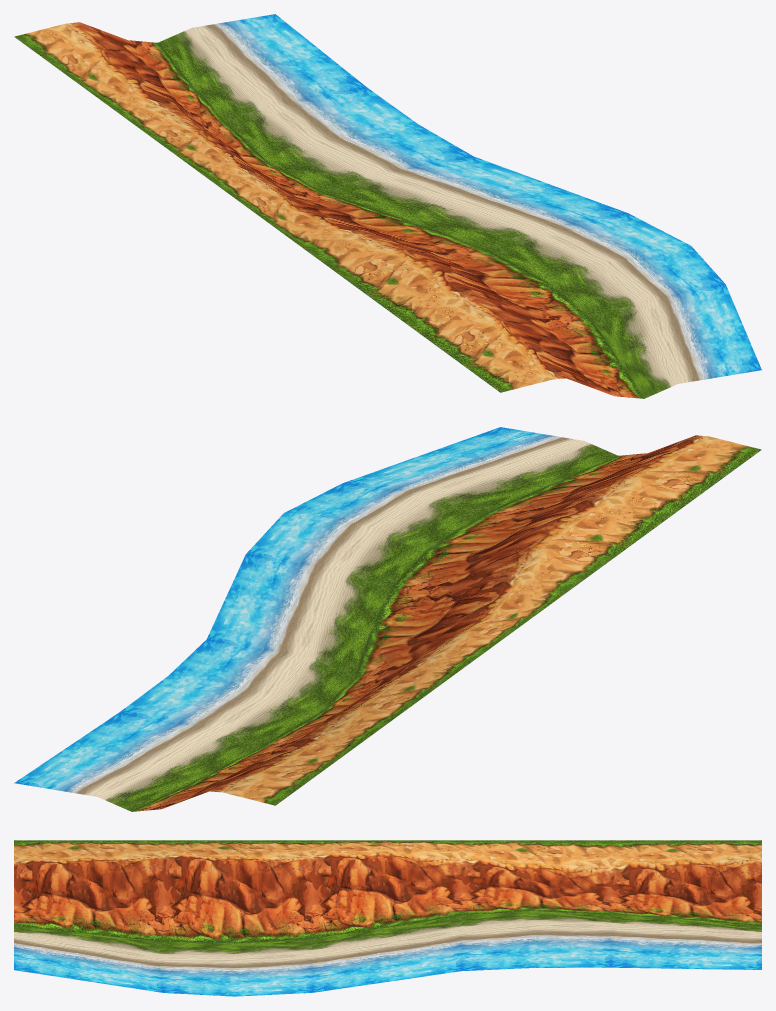
The model's file is bch_mid1.fbx.
3 views of the same model, one above another, from view 1: azimuth 30°, elevation 25°; view 2: azimuth 150°, elevation 25°; view 3: azimuth 270°, elevation 25° (orthographic). The views are drawn at different scales.
Visible parts, largest first — view 1: bch_mid1; view 2: bch_mid1; view 3: bch_mid1.
Boxes of the visible parts, x1,y1,x2,y2 form: bch_mid1: (14, 14, 761, 398); bch_mid1: (14, 427, 761, 811); bch_mid1: (14, 840, 761, 996).
Bounding box in the file's own units: 3971 × 565 × 10000.
